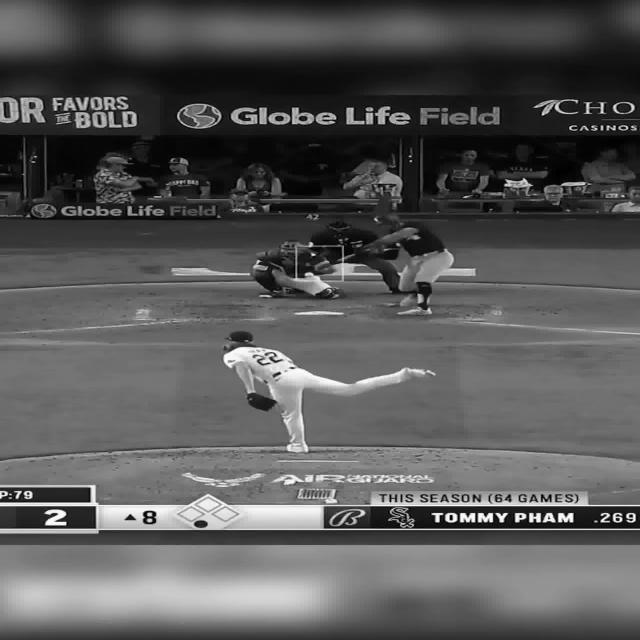baseball: (305, 272, 313, 278)
baseball_glove: (247, 392, 276, 411), (313, 260, 336, 274)
shoe: (402, 368, 436, 379), (400, 294, 420, 309), (398, 308, 433, 316), (287, 442, 309, 454)
